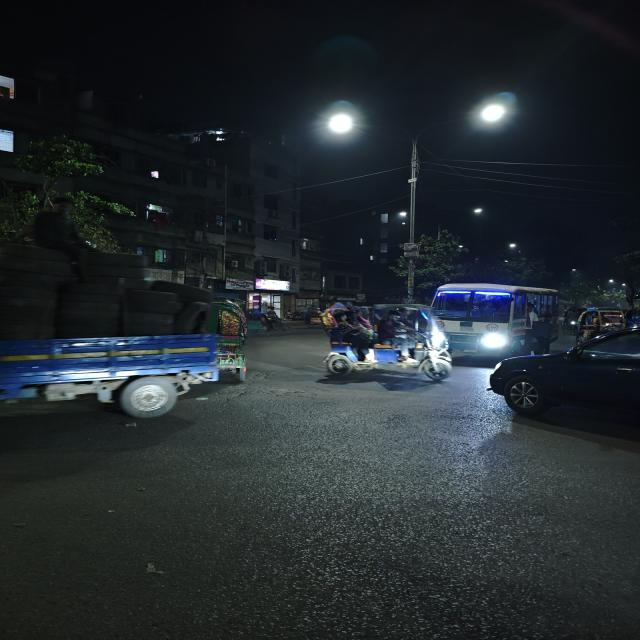bus: (430, 280, 561, 358)
car: (486, 323, 640, 439)
pickup_van: (0, 275, 251, 429)
rickshaw: (310, 299, 455, 387), (573, 306, 624, 340)
